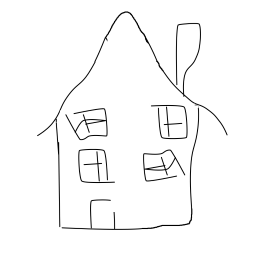chimney: (171, 16, 203, 100)
closed_window: (138, 145, 188, 188), (61, 105, 113, 145), (149, 102, 192, 145), (75, 145, 115, 191)
door: (79, 191, 123, 233)
single_line_roof: (30, 8, 239, 136)
wall: (53, 100, 196, 235)
